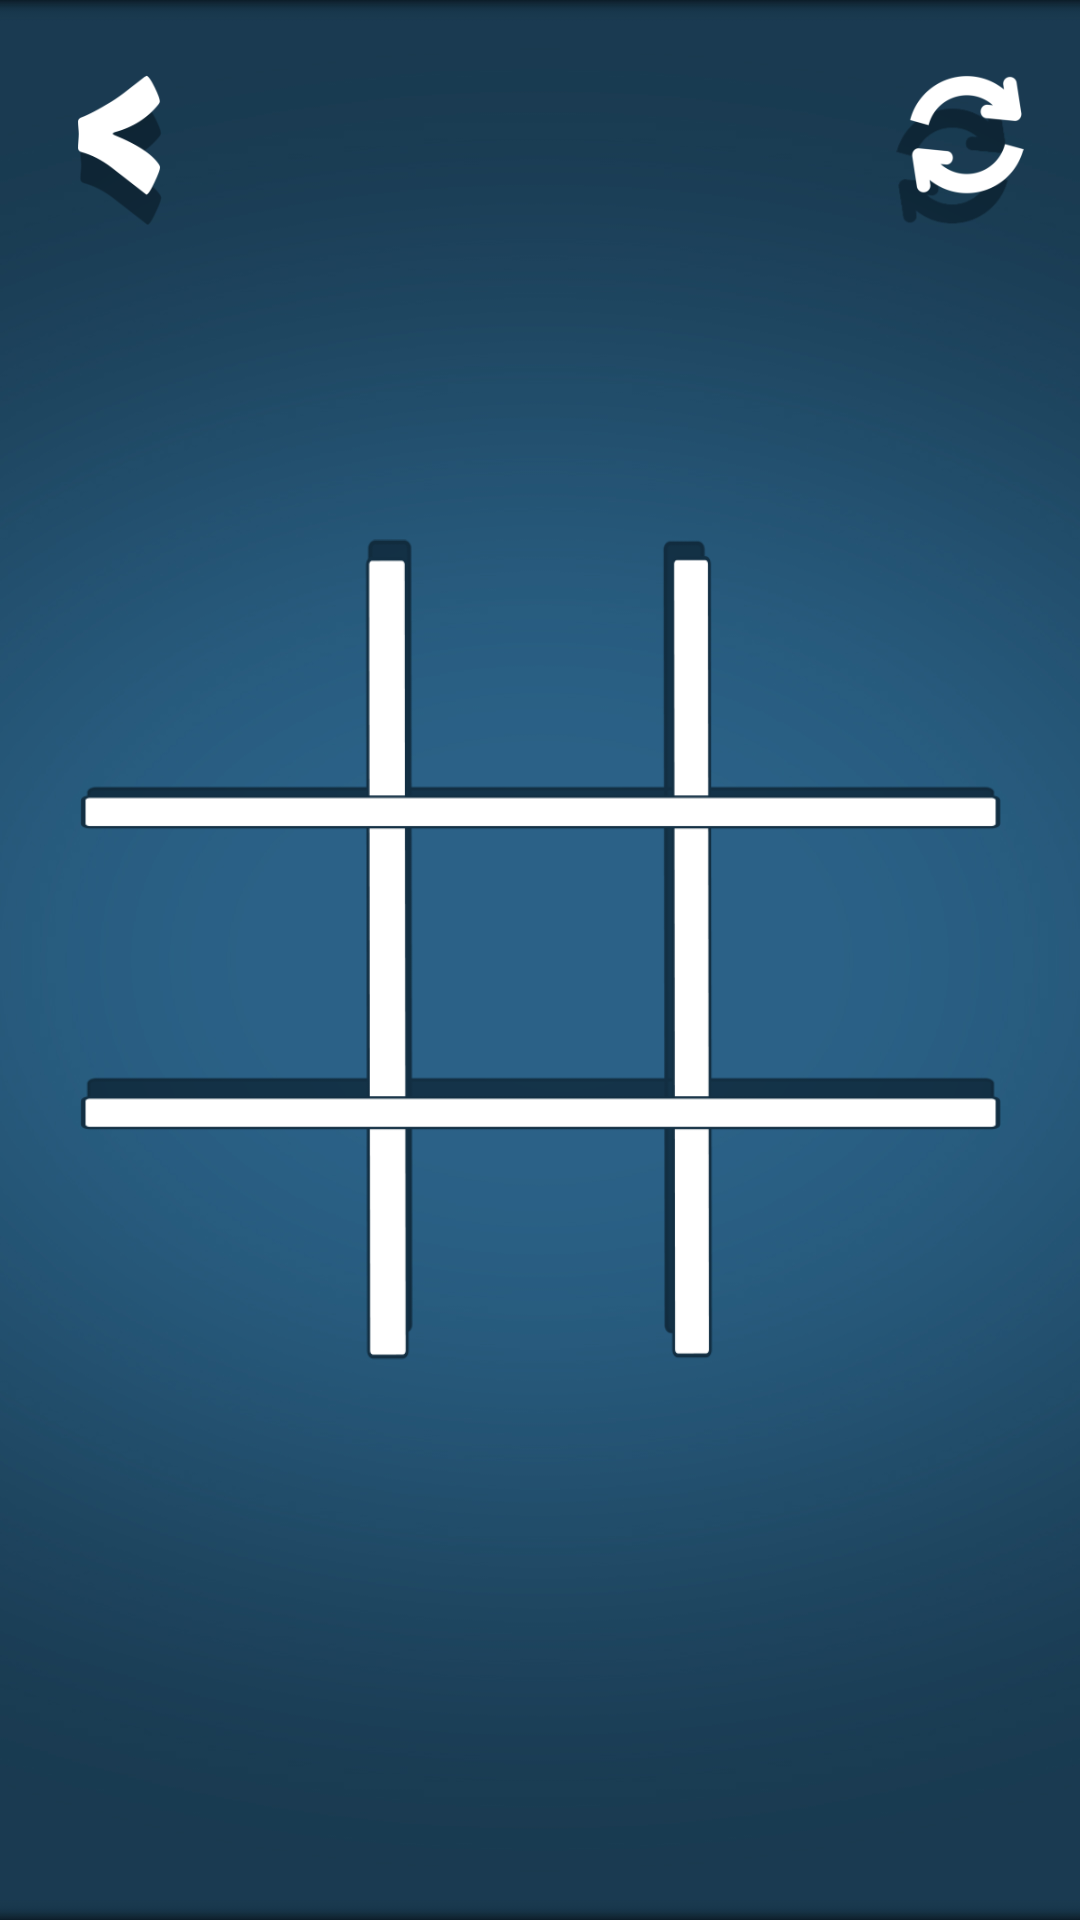

Named icons in this screenshot (1080 x 1920) and their bounding boxes, (x1, y1, x2, y2):
tictactoegoback: (78, 76, 161, 224)
tictactoerestart: (898, 76, 1024, 223)
